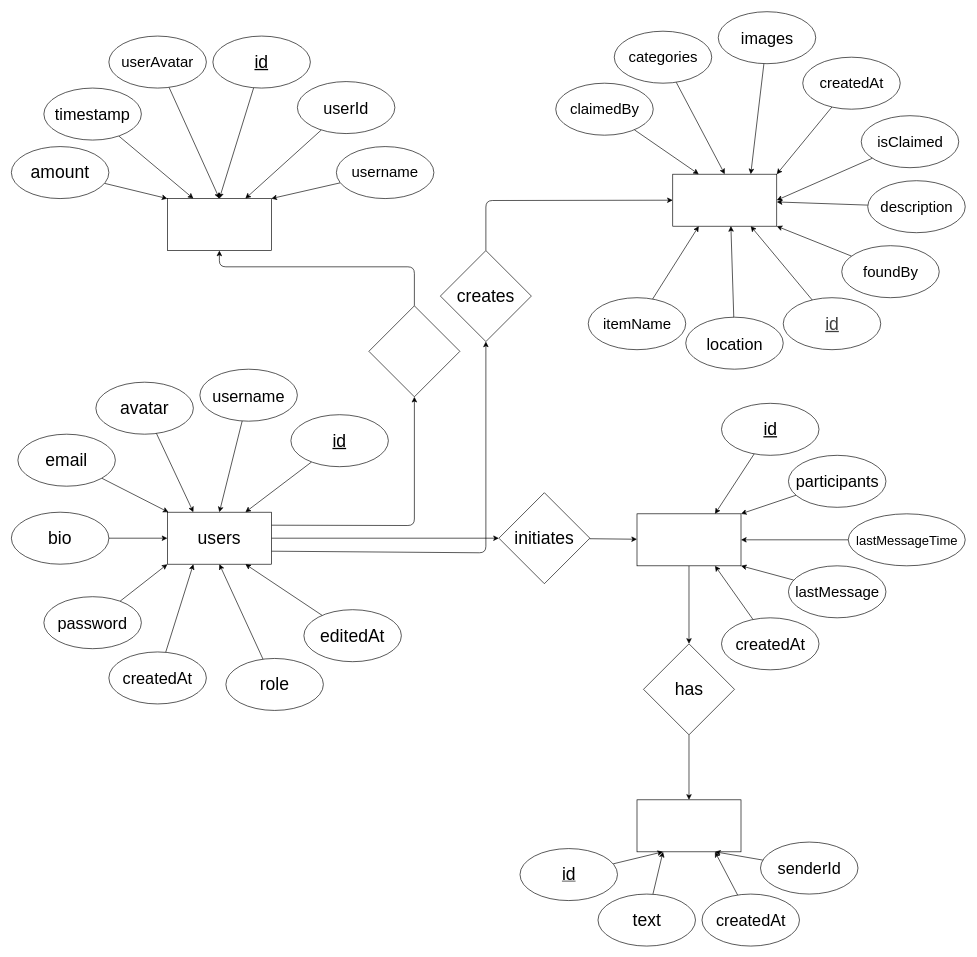
Some shapes in this 977 by 957 pixel diagram are drawn without their labels. The centre of each missing label's shape, as x and y in pixels:
"chats" belongs at pixel 688 539.
"foundItems" belongs at pixel 724 200.
"gets" belongs at pixel 414 351.
"karma" belongs at pixel 219 224.
"messages" belongs at pixel 688 825.
